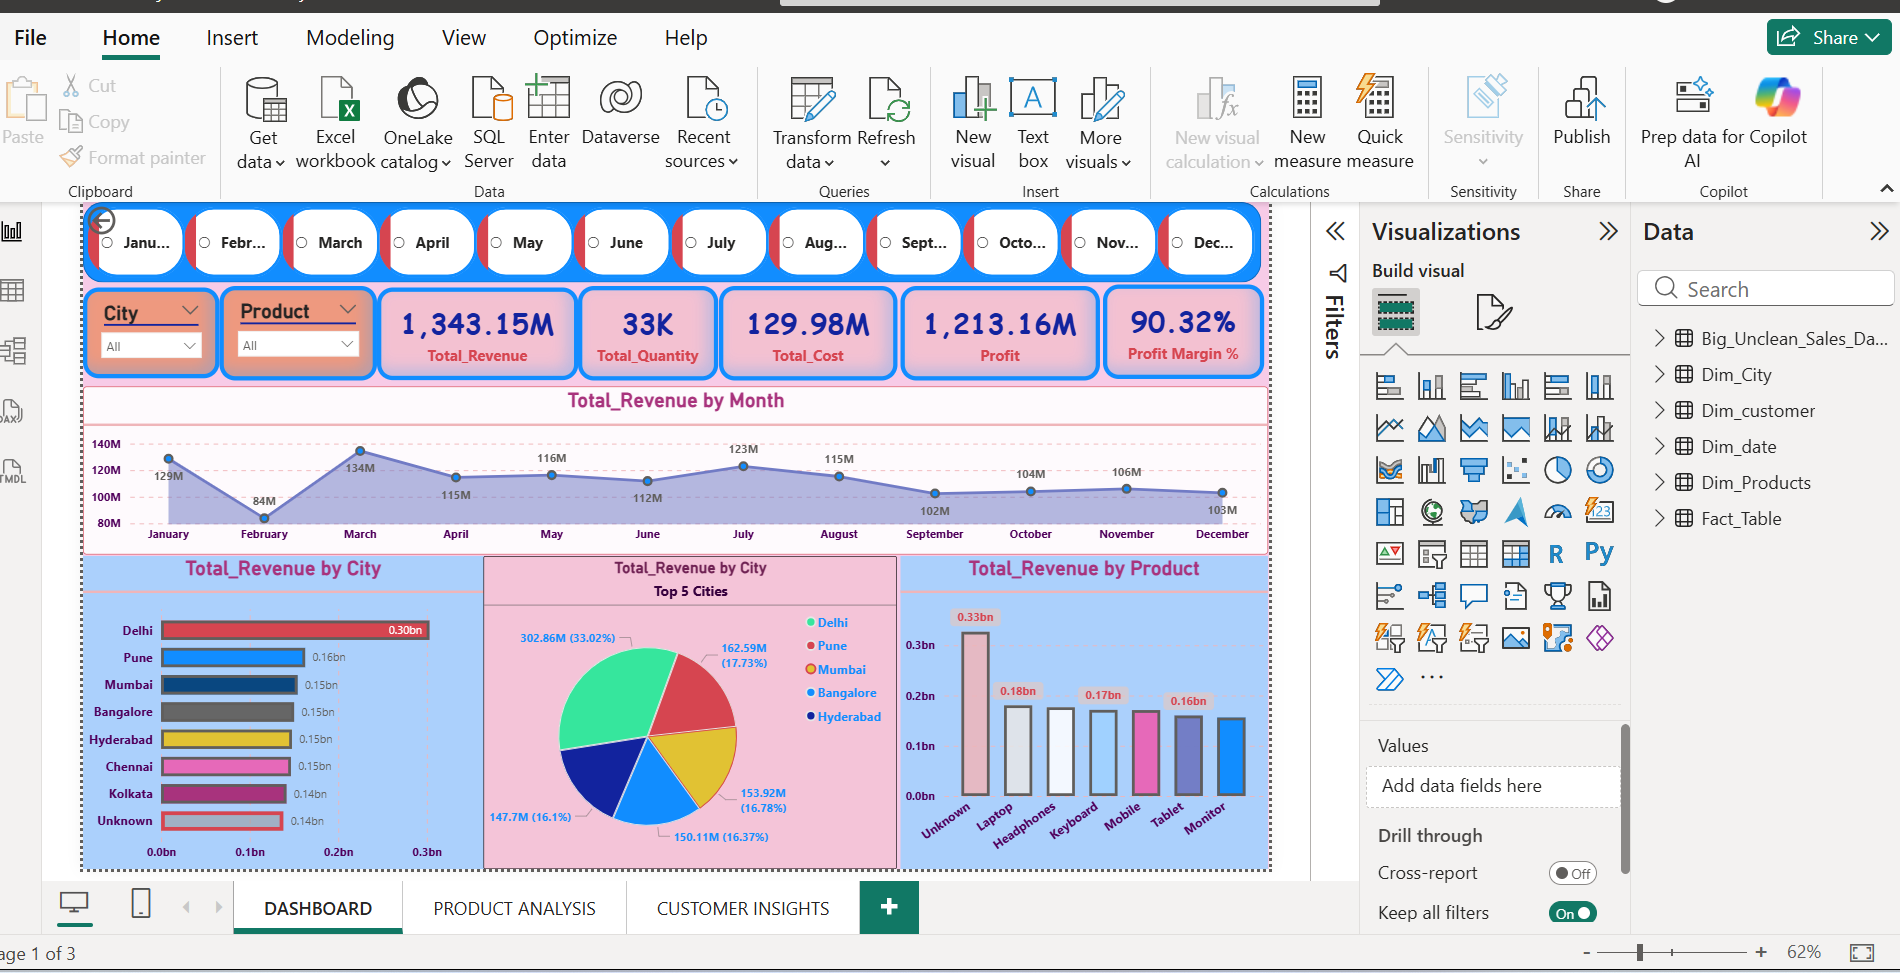

Layout of this report page (visuals, bound fields, positions):
{"tool":"powerbi","page":{"name":"DASHBOARD","canvas":[1280,720],"ordinal":0},"visuals":[{"type":"card","fields":{"Values":["Fact_Table.Total_Revenue"]},"box":[317.5,92.6,217.3,100.2],"z":0},{"type":"card","fields":{"Values":["Fact_Table.Total_Quantity"]},"box":[534.8,90.7,151.2,102],"z":1000},{"type":"card","fields":{"Values":["Fact_Table.Total_Cost"]},"box":[686,90.7,192.8,102],"z":2000},{"type":"card","fields":{"Values":["Fact_Table.Profit"]},"box":[882.5,90.7,215.4,102],"z":3000},{"type":"card","fields":{"Values":["Fact_Table.Profit Margin %"]},"box":[1101.7,88.8,173.9,102],"z":4000},{"type":"barChart","fields":{"Y":["Fact_Table.Total_Revenue"],"Category":["Dim_City.City"]},"box":[0,381.7,432.8,338.3],"z":5000},{"type":"lineChart","fields":{"Y":["Fact_Table.Total_Revenue"],"Category":["Dim_date.Invoice_Date.Variation.Date Hierarchy.Month"]},"box":[0,198.4,1279.4,181.4],"z":6000},{"type":"shape","box":[0,0,1271.8,86.9],"z":7000},{"type":"advancedSlicerVisual","fields":{"Values":["Dim_date.Month Name"]},"box":[0,0,1271.8,86.9],"z":8000},{"type":"pieChart","fields":{"Category":["Dim_City.City"],"Y":["Fact_Table.Total_Revenue"]},"box":[432.8,381.7,446,338.3],"z":9000},{"type":"slicer","fields":{"Values":["Dim_City.City"]},"box":[0,92.6,147.4,98.3],"z":10000},{"type":"slicer","fields":{"Values":["Dim_Products.Product"]},"box":[147.4,90.7,170.1,102],"z":11000},{"type":"actionButton","box":[0,0,100,40],"z":12000},{"type":"columnChart","fields":{"Category":["Dim_Products.Product"],"Y":["Fact_Table.Total_Revenue"]},"box":[882.5,382.1,396.7,338.4],"z":13000}]}

Visuals, with their boxes on the page's 1280x720 design canvas (x1, y1, x2, y2). These are canvas units, not pixel positions in the 1900x973 screenshot, which may show the page scaled, cropped or inside an application window:
card - Fact_Table.Total_Revenue: <region>318, 93, 535, 193</region>
card - Fact_Table.Total_Quantity: <region>535, 91, 686, 193</region>
card - Fact_Table.Total_Cost: <region>686, 91, 879, 193</region>
card - Fact_Table.Profit: <region>882, 91, 1098, 193</region>
card - Fact_Table.Profit Margin %: <region>1102, 89, 1276, 191</region>
barChart - Fact_Table.Total_Revenue x Dim_City.City: <region>0, 382, 433, 720</region>
lineChart - Fact_Table.Total_Revenue x Dim_date.Invoice_Date.Variation.Date Hierarchy.Month: <region>0, 198, 1279, 380</region>
shape: <region>0, 0, 1272, 87</region>
advancedSlicerVisual - Dim_date.Month Name: <region>0, 0, 1272, 87</region>
pieChart - Dim_City.City x Fact_Table.Total_Revenue: <region>433, 382, 879, 720</region>
slicer - Dim_City.City: <region>0, 93, 147, 191</region>
slicer - Dim_Products.Product: <region>147, 91, 318, 193</region>
actionButton: <region>0, 0, 100, 40</region>
columnChart - Dim_Products.Product x Fact_Table.Total_Revenue: <region>882, 382, 1279, 720</region>
